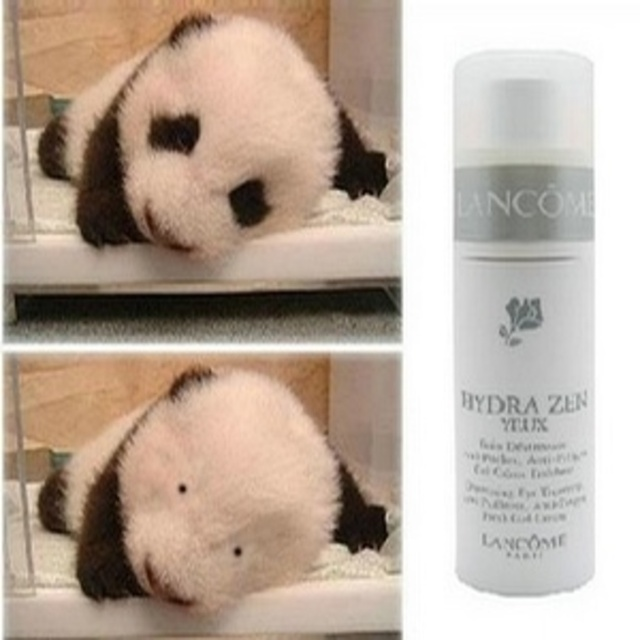Panda: (30, 361, 390, 615), (34, 2, 388, 257)
